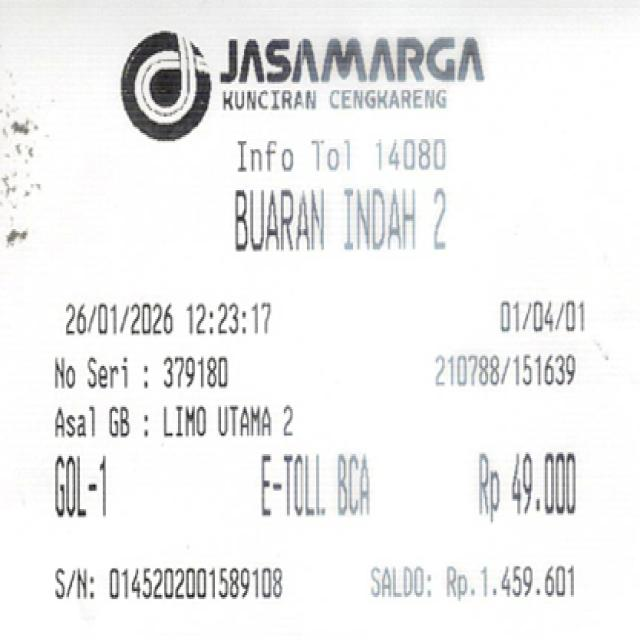date: (59, 305, 289, 341)
store: (212, 30, 489, 113)
total: (467, 440, 586, 528)
